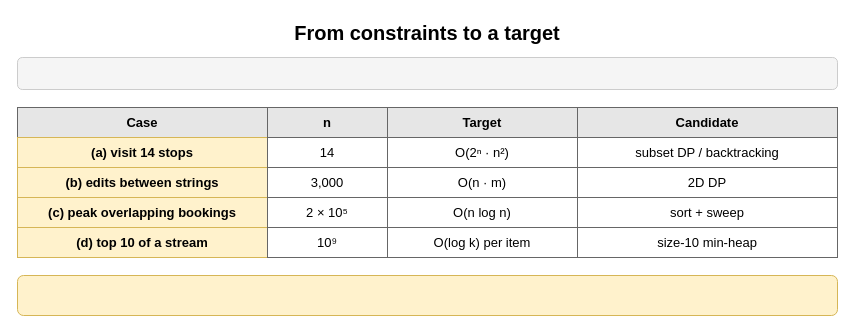
This 855x333 diagram has some shape labels left out. The centre of each missing label's shape, as x and y in pixels:
2¹⁴ · 14² ≈ 3.2 million steps · 3,000 × 3,000 = 9 million cells: point (427, 295)
read the limits first, then pick the tool: point (427, 73)
